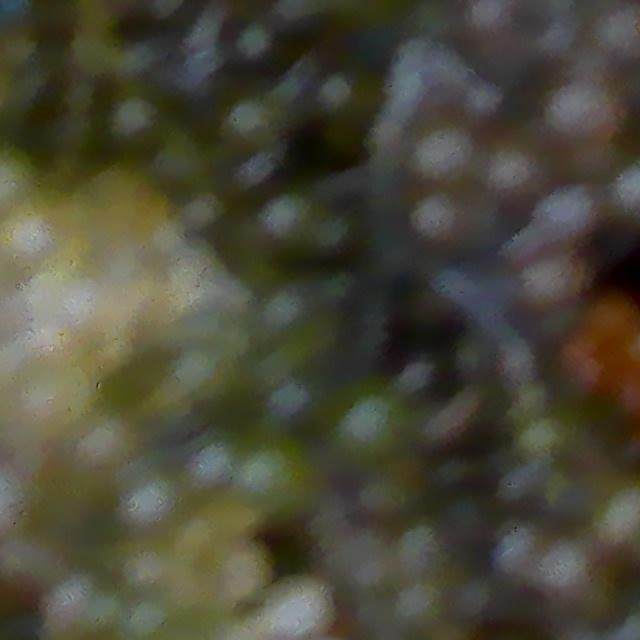SeaGrape: (544, 78, 619, 155), (334, 395, 403, 465), (314, 59, 358, 136), (416, 124, 474, 179), (533, 186, 592, 240), (247, 197, 312, 242), (223, 101, 281, 151), (484, 141, 537, 195), (235, 0, 274, 72), (596, 0, 640, 63), (149, 140, 212, 182), (411, 194, 459, 244), (526, 255, 572, 301)
